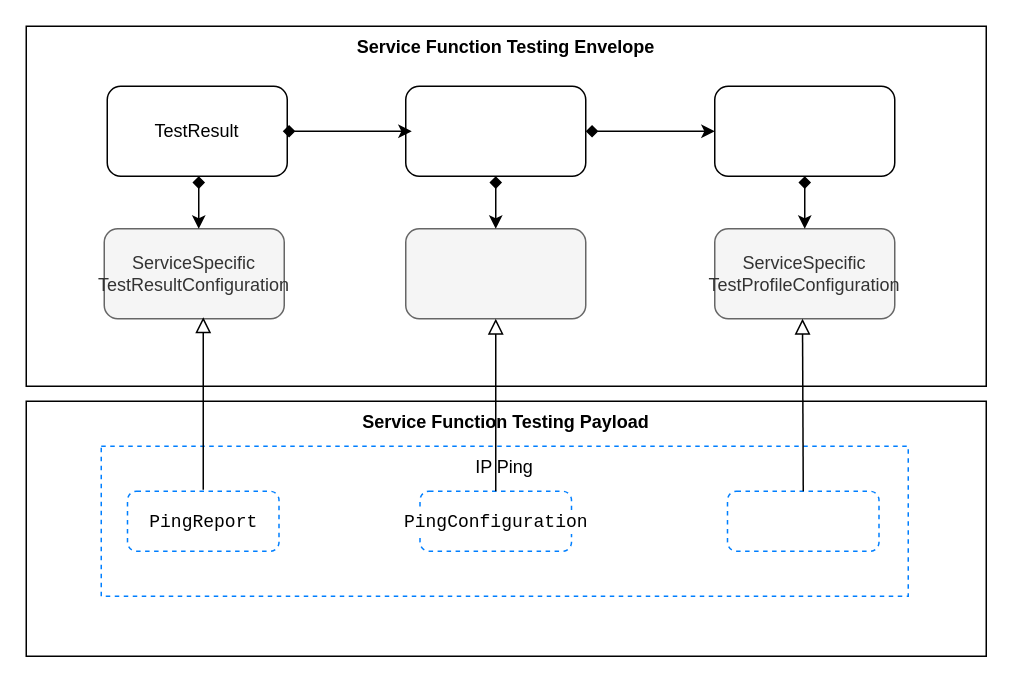
Some shapes in this 1013 by 683 pixel diagram are drawn without their labels. The centre of each missing label's shape, as x and y in pixels:
"IpPingTestProfile" goes at (802,520).
"ServiceSpecific TestJobConfiguration" goes at (495,273).
"TestJob" goes at (495,130).
"TestProfile" goes at (804,130).
